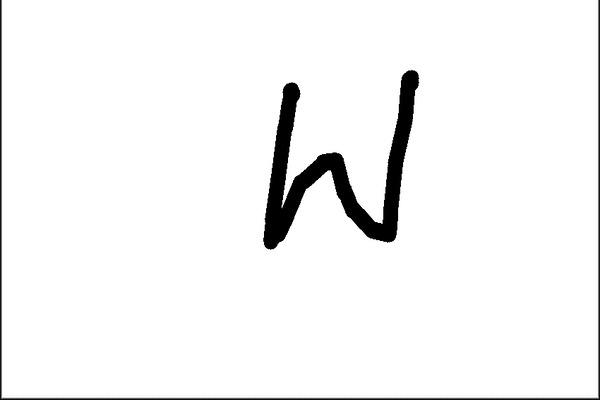w: (245, 53, 423, 262)
